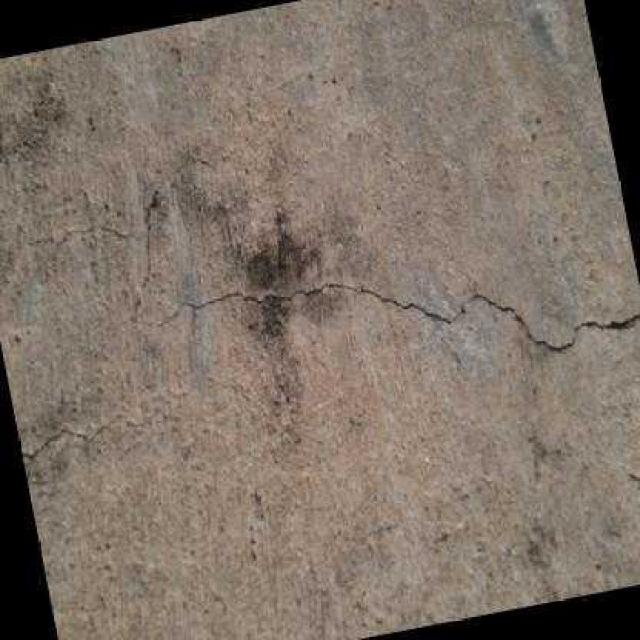D00: (133, 279, 640, 351)
